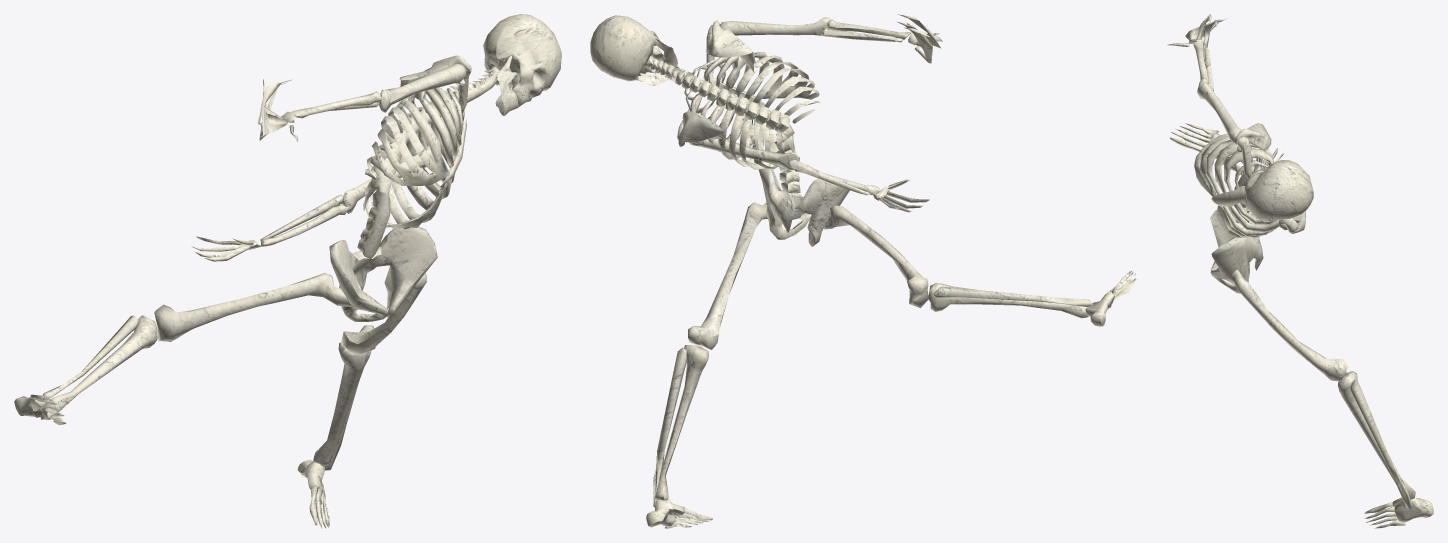
Rendered from skeleton_try3_textured.fbx.
3 renders of one model, left to right at view 1: azimuth 30°, elevation 25°; view 2: azimuth 150°, elevation 25°; view 3: azimuth 270°, elevation 25°, orthographic. The views are drawn at different scales.
Parts seen in each view (by area): view 1: SM_Skeleton_Base; view 2: SM_Skeleton_Base; view 3: SM_Skeleton_Base.
Boxes of the visible parts, x1=… form: SM_Skeleton_Base: x1=14, y1=14, x2=561, y2=528; SM_Skeleton_Base: x1=590, y1=14, x2=1136, y2=528; SM_Skeleton_Base: x1=1167, y1=14, x2=1433, y2=528.
Size of the model in its own units: 161 by 151 by 81.21.
